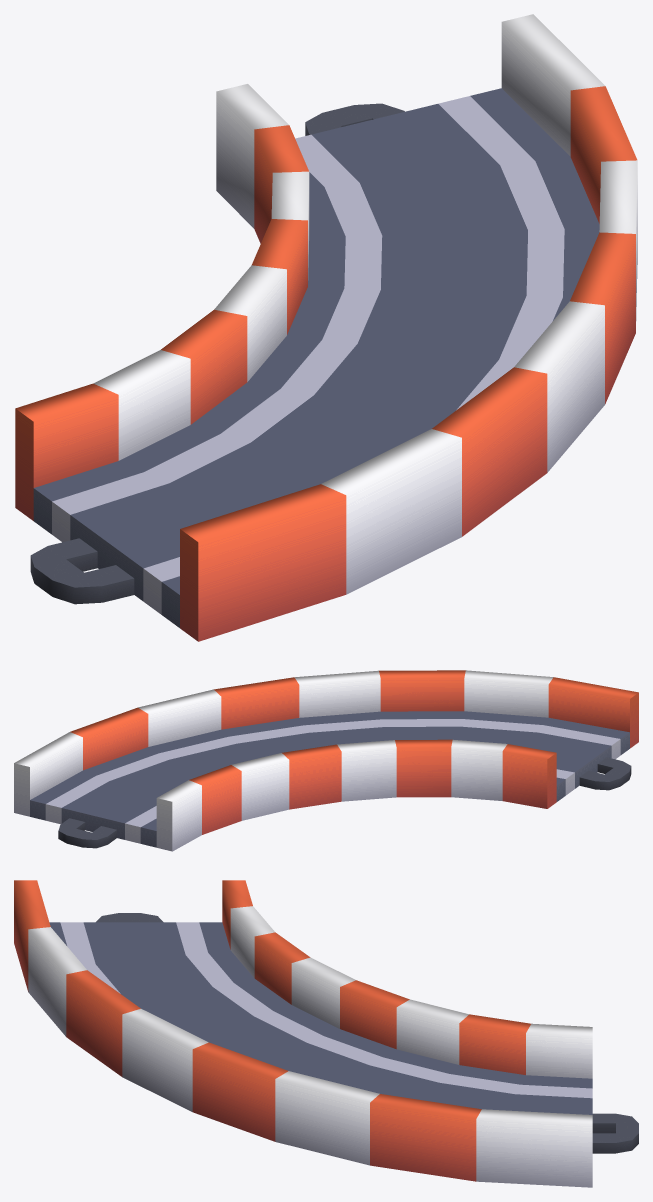
The model's file is track-road-narrow-corner-small.glb.
The picture shows the model from 3 angles, top to bottom: view 1: azimuth 30°, elevation 25°; view 2: azimuth 150°, elevation 25°; view 3: azimuth 270°, elevation 25°; orthographic projection. The views are drawn at different scales.
Parts seen in each view (by area): view 1: track-road-narrow-corner-small; view 2: track-road-narrow-corner-small; view 3: track-road-narrow-corner-small.
Boxes of the visible parts, left/top/right/bottom form: track-road-narrow-corner-small: left=15, top=14, right=637, bottom=641; track-road-narrow-corner-small: left=14, top=670, right=638, bottom=851; track-road-narrow-corner-small: left=14, top=880, right=638, bottom=1187.
Bounding box in the file's own units: 8.1 × 0.9 × 8.1.
Materials: 1 (1 with a texture image).
